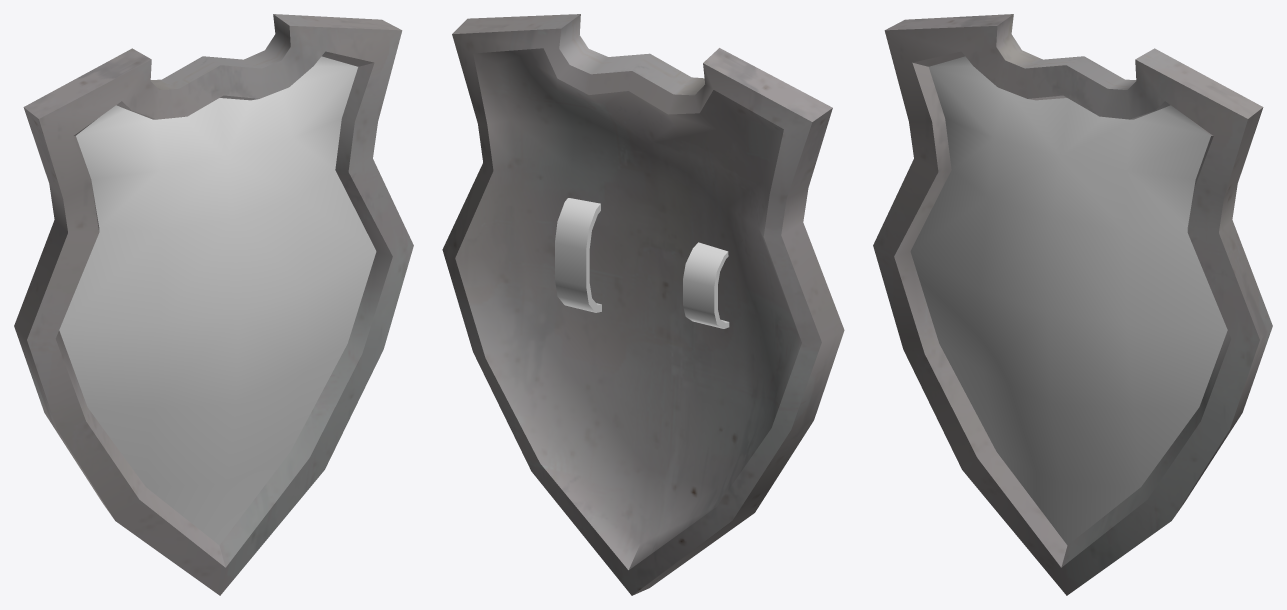
The model's file is SM_Blockout_Shield_1.fbx.
3 views of the same model, side by side, from view 1: azimuth 30°, elevation 25°; view 2: azimuth 150°, elevation 25°; view 3: azimuth 330°, elevation 25° (orthographic).
Parts seen in each view (by area): view 1: Shield_1; view 2: Shield_1; view 3: Shield_1.
Part boxes in pixels (left/top/right/bottom): Shield_1: left=14, top=14, right=413, bottom=595; Shield_1: left=442, top=14, right=844, bottom=595; Shield_1: left=873, top=14, right=1272, bottom=595.
Bounding box in the file's own units: 83.55 × 114 × 15.
